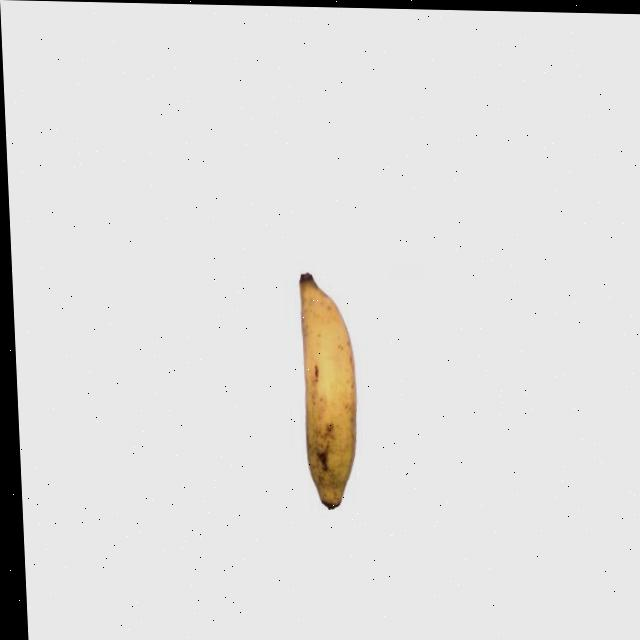banana: (293, 267, 366, 515)
